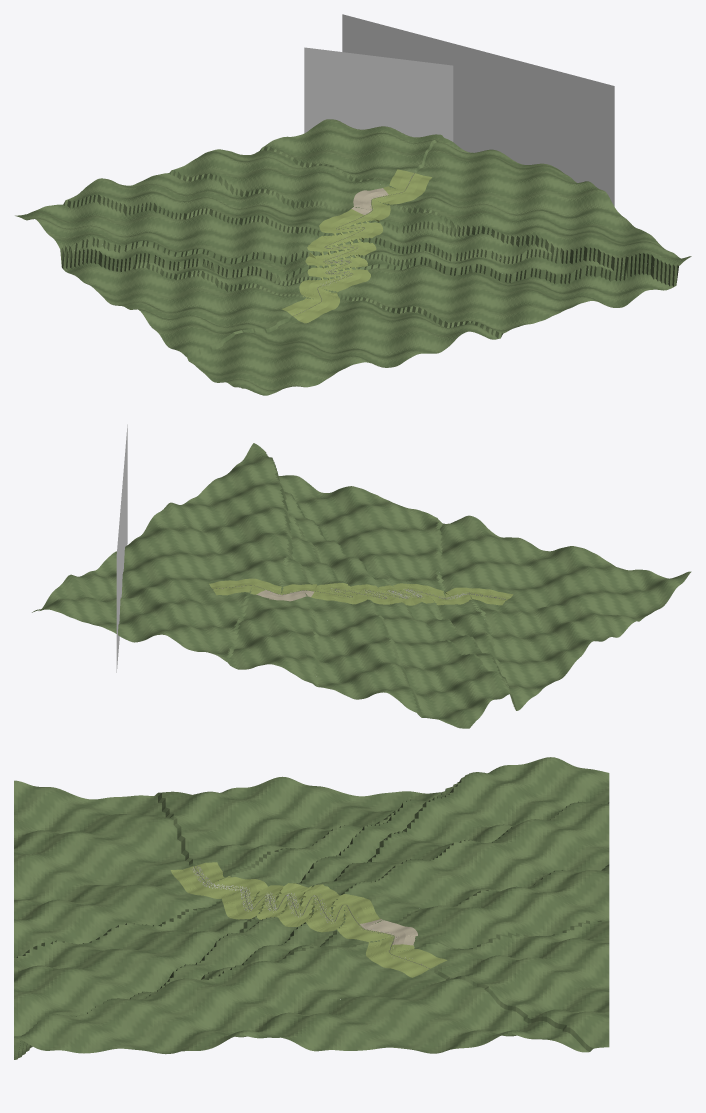
File: sella.glb
The picture shows the model from 3 angles, top to bottom: view 1: azimuth 30°, elevation 25°; view 2: azimuth 150°, elevation 25°; view 3: azimuth 270°, elevation 25°; orthographic projection. The views are drawn at different scales.
Visible parts, largest first — view 1: Land_000, Langkofel, Land_002, Land_012, Land_011, Land_008, SellaPlateau, Land_006, Land_010, Land_005, Land_004, Land_001 (+1 smaller); view 2: Land_000, Land_012, Land_011, Land_002, Land_008, Land_006, Land_010, Land_005, Land_001, Land_004, Langkofel, Land_009; view 3: Land_000, Land_012, Land_011, Land_008, Land_002, Land_006, Land_010, Land_001, Land_004, Land_005, Land_009.
Boxes of the visible parts, x1=… form: Land_000: x1=62, y1=250, x2=500, y2=395; Langkofel: x1=342, y1=14, x2=614, y2=206; Land_002: x1=336, y1=255, x2=676, y2=337; Land_012: x1=262, y1=119, x2=604, y2=198; Land_011: x1=367, y1=177, x2=691, y2=285; Land_008: x1=65, y1=170, x2=563, y2=263; SellaPlateau: x1=304, y1=47, x2=453, y2=141; Land_006: x1=15, y1=196, x2=353, y2=263; Land_010: x1=172, y1=148, x2=423, y2=217; Land_005: x1=323, y1=238, x2=628, y2=282; Land_004: x1=60, y1=240, x2=409, y2=280; Land_001: x1=135, y1=254, x2=411, y2=315; Land_000: x1=437, y1=515, x2=691, y2=710; Land_012: x1=32, y1=503, x2=245, y2=662; Land_011: x1=170, y1=443, x2=291, y2=608; Land_002: x1=273, y1=460, x2=443, y2=590; Land_008: x1=284, y1=506, x2=419, y2=715; Land_006: x1=372, y1=596, x2=512, y2=728; Land_010: x1=228, y1=566, x2=317, y2=686; Land_005: x1=276, y1=472, x2=377, y2=593; Land_001: x1=433, y1=558, x2=498, y2=667; Land_004: x1=365, y1=568, x2=514, y2=705; Langkofel: x1=116, y1=424, x2=127, y2=672; Land_009: x1=284, y1=553, x2=337, y2=632; Land_000: x1=14, y1=776, x2=441, y2=957; Land_012: x1=239, y1=920, x2=609, y2=1053; Land_011: x1=14, y1=942, x2=453, y2=1054; Land_008: x1=149, y1=801, x2=609, y2=995; Land_002: x1=14, y1=897, x2=262, y2=1059; Land_006: x1=302, y1=757, x2=609, y2=913; Land_010: x1=341, y1=864, x2=609, y2=949; Land_001: x1=144, y1=803, x2=402, y2=925; Land_004: x1=240, y1=779, x2=461, y2=932; Land_005: x1=130, y1=898, x2=311, y2=999; Land_009: x1=282, y1=905, x2=421, y2=958.
Bounding box in the file's own units: 12335 × 3220 × 11675.
